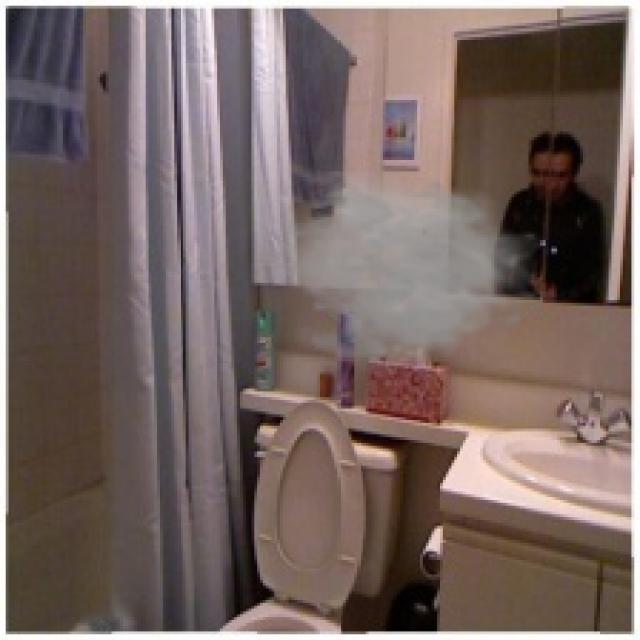Smoke: (268, 171, 548, 380)
